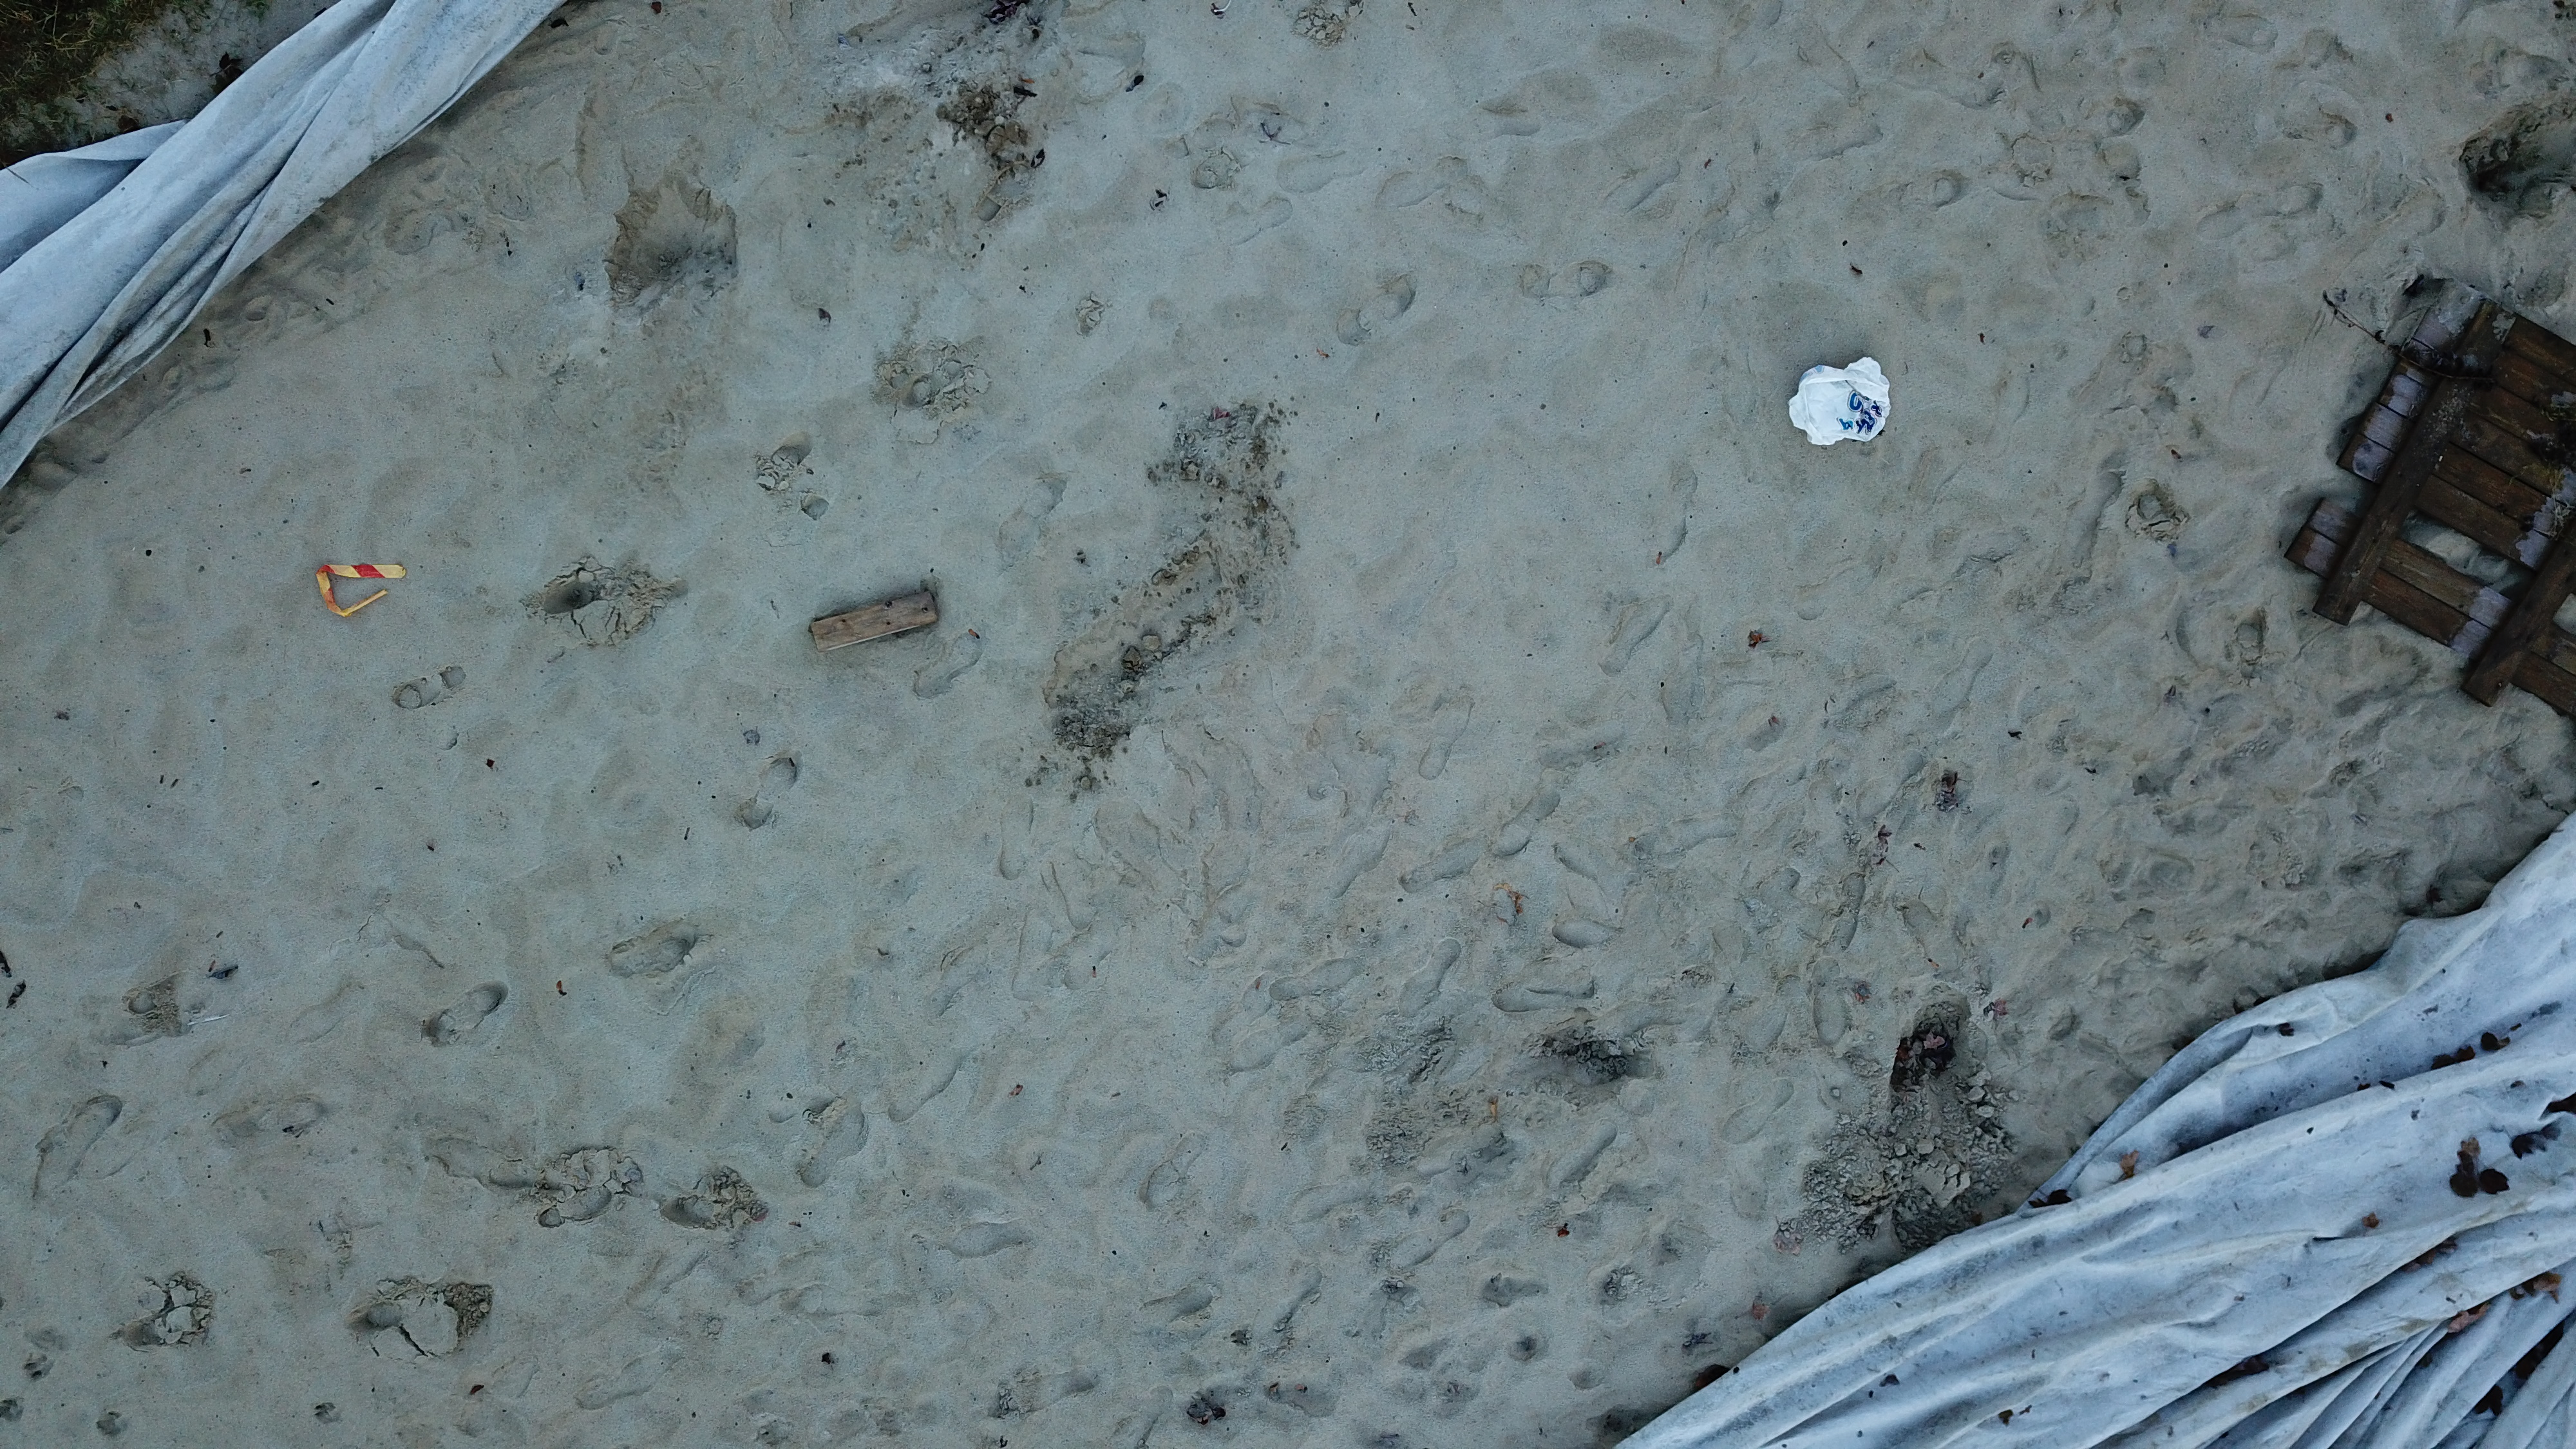Plastic: (1787, 357, 1891, 449), (311, 556, 410, 616)
